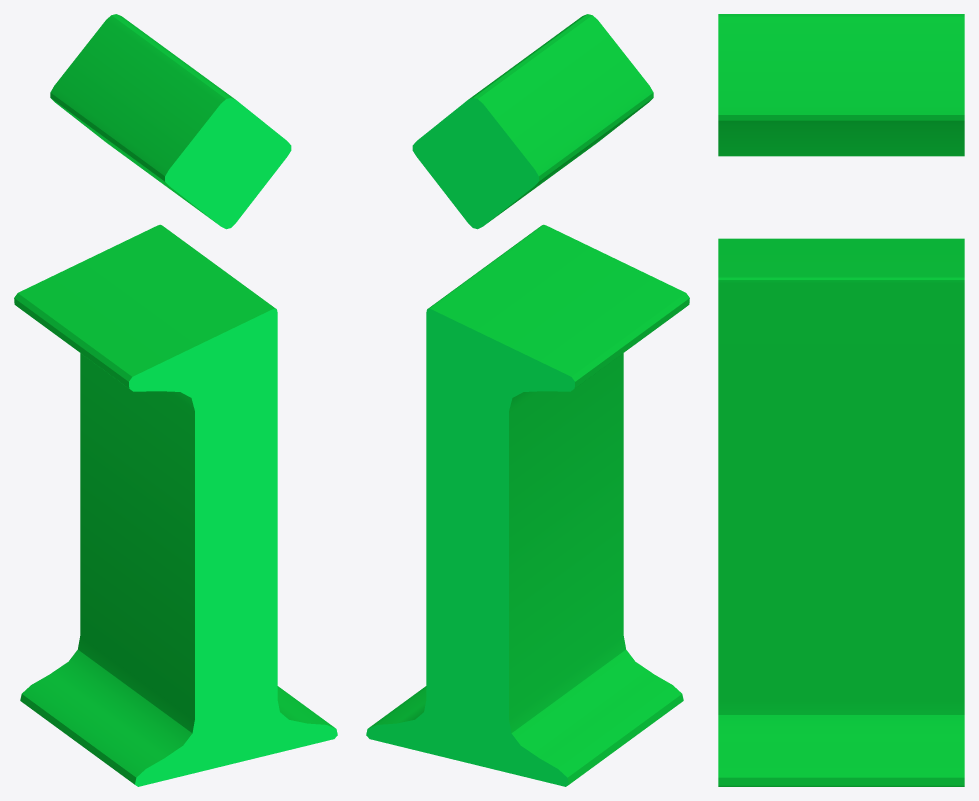
File: I_Soul_Green.glb
The picture shows the model from 3 angles, left to right: view 1: azimuth 30°, elevation 25°; view 2: azimuth 150°, elevation 25°; view 3: azimuth 270°, elevation 25°; orthographic projection. The views are drawn at different scales.
Visible parts, largest first — view 1: i_Soul_Green; view 2: i_Soul_Green; view 3: i_Soul_Green.
Part boxes in pixels (<box>): i_Soul_Green: <box>14,14,337,786</box>; i_Soul_Green: <box>366,14,689,786</box>; i_Soul_Green: <box>718,14,964,786</box>.
Size of what is drawn, in the model's own units: 0.0474 by 0.1442 by 0.045.
2 materials, 2 textured.
